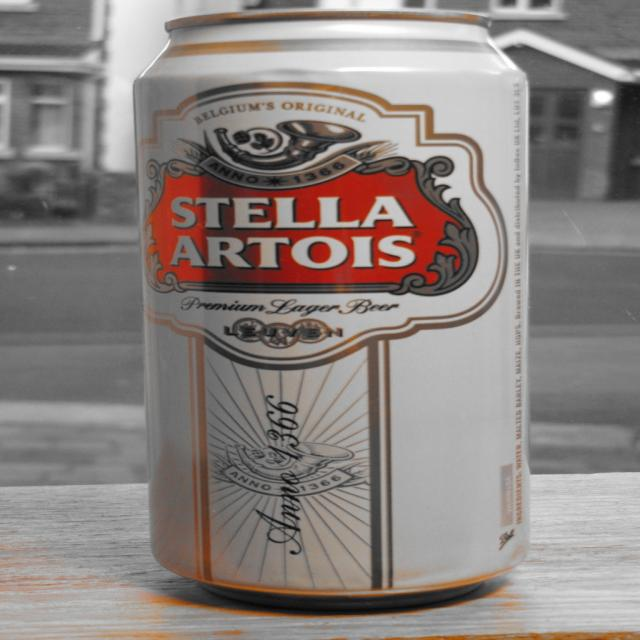stellaartois: (138, 97, 491, 350)
